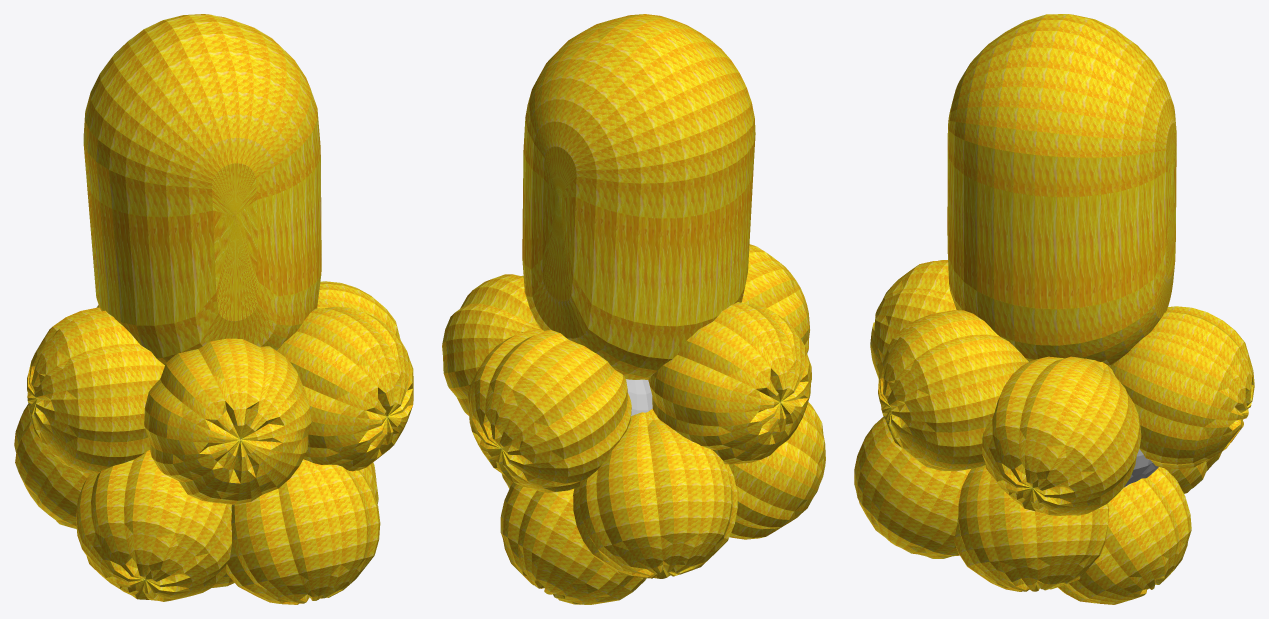
Rendered from candelabraseed.dae.
The picture shows the model from 3 angles, left to right: view 1: azimuth 30°, elevation 25°; view 2: azimuth 150°, elevation 25°; view 3: azimuth 270°, elevation 25°; orthographic projection. The views are drawn at different scales.
Visible parts, largest first — view 1: Sphere_006; view 2: Sphere_006; view 3: Sphere_006.
Boxes of the visible parts, bbox=[...] form: Sphere_006: bbox=[14, 14, 413, 604]; Sphere_006: bbox=[442, 14, 825, 604]; Sphere_006: bbox=[854, 14, 1254, 604].
Size of the model in its own units: 2.46 by 2.51 by 3.86.
